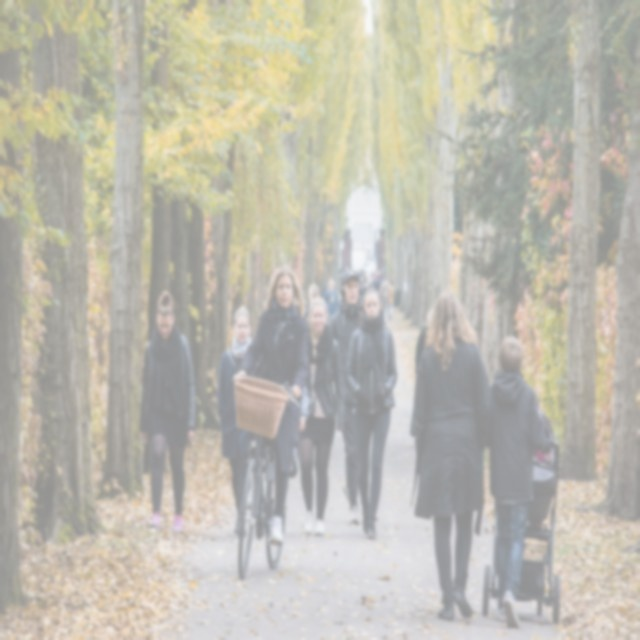pessoa: (408, 285, 496, 626), (231, 259, 311, 550), (488, 333, 553, 630), (138, 290, 198, 534), (291, 290, 349, 540), (344, 284, 399, 542), (326, 269, 364, 527), (217, 304, 255, 540), (414, 308, 436, 378), (322, 276, 340, 322), (303, 283, 320, 324), (378, 271, 390, 327), (387, 278, 397, 320), (358, 267, 372, 289), (372, 268, 382, 292)
